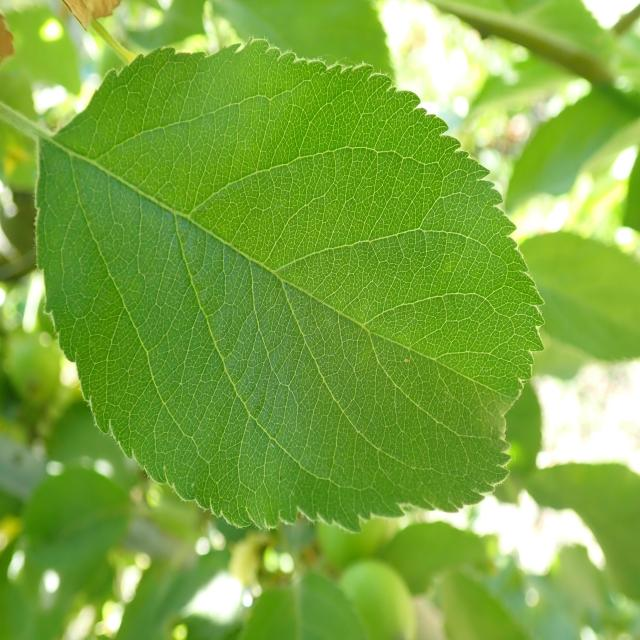healthy: (34, 36, 546, 534)
